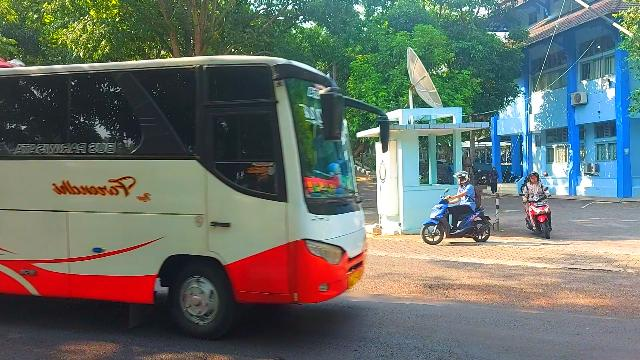helm: (455, 173, 472, 186), (530, 173, 541, 184)
motor: (422, 190, 495, 247), (520, 188, 552, 241)
